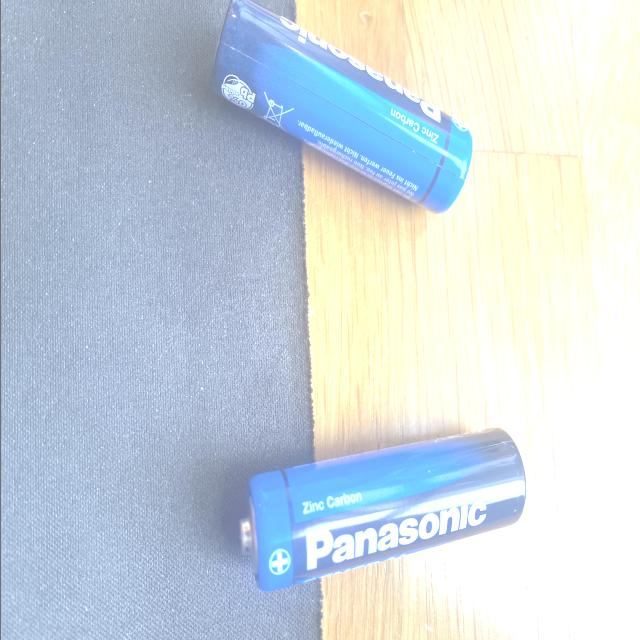AA: (206, 0, 475, 221), (236, 421, 530, 596)
